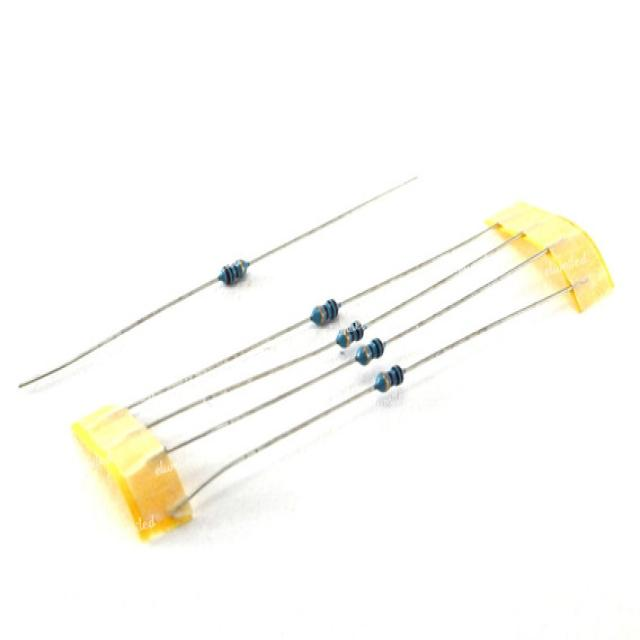Resistor: (371, 361, 405, 392), (310, 296, 345, 326), (354, 336, 386, 365), (217, 258, 249, 286), (336, 321, 366, 349)
